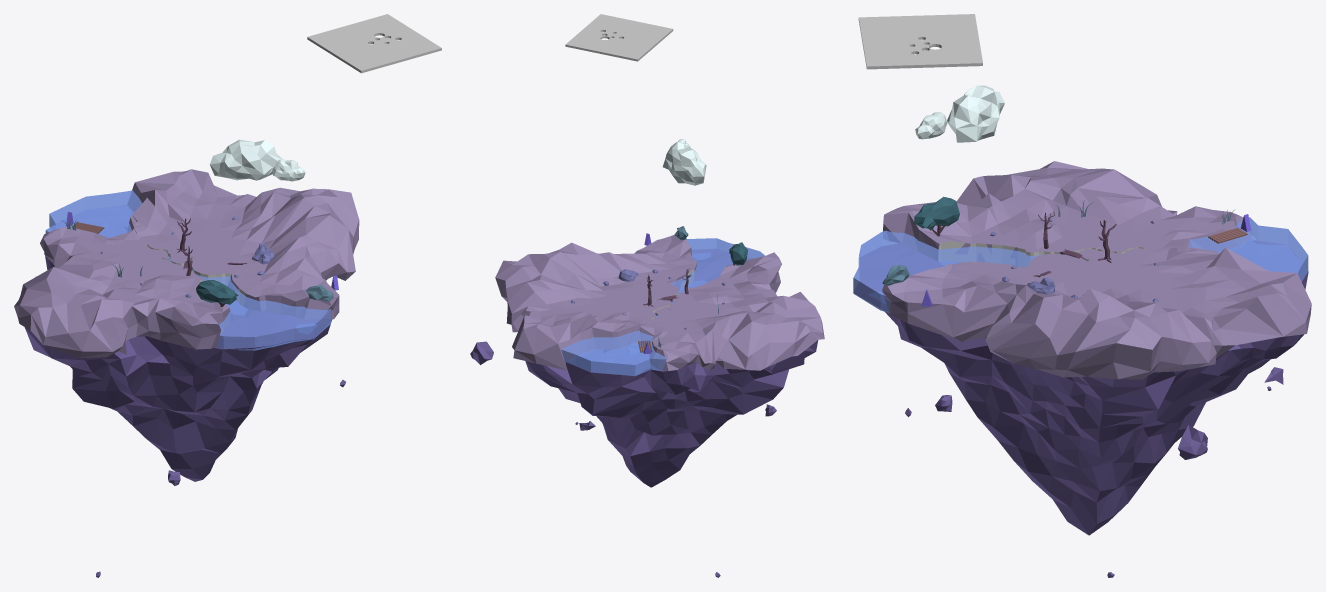
File: level-1-platform-3.dae
3 views of the same model, side by side, from view 1: azimuth 30°, elevation 25°; view 2: azimuth 150°, elevation 25°; view 3: azimuth 270°, elevation 25° (orthographic). The views are drawn at different scales.
Visible parts, largest first — view 1: top_platform, river_path_bool_1, bot_platform, water_1, Cube_3, water_2, Cloud_4, cerisier_1, Cloud_3; view 2: top_platform, bot_platform, river_path_bool_1, water_2, Cube_3, water_1, Cloud_4; view 3: top_platform (×2), bot_platform, river_path_bool_1, Cube_3, water_1, water_2, Cloud_4, cerisier_1, falling_rock5, Cloud_3.
Boxes of the visible parts, <box> form: top_platform: <box>19,169,358,357</box>; river_path_bool_1: <box>14,169,359,357</box>; bot_platform: <box>24,205,332,481</box>; water_1: <box>166,252,331,350</box>; Cube_3: <box>307,14,441,73</box>; water_2: <box>45,190,148,247</box>; Cloud_4: <box>209,139,282,180</box>; cerisier_1: <box>196,280,238,304</box>; Cloud_3: <box>272,159,305,181</box>; top_platform: <box>503,236,823,370</box>; bot_platform: <box>525,249,818,487</box>; river_path_bool_1: <box>495,234,824,370</box>; water_2: <box>561,316,666,376</box>; Cube_3: <box>565,14,673,61</box>; water_1: <box>630,238,764,345</box>; Cloud_4: <box>663,142,706,185</box>; top_platform (×2): <box>883,161,1311,379</box>; bot_platform: <box>854,240,1308,535</box>; river_path_bool_1: <box>882,161,1311,377</box>; Cube_3: <box>858,14,982,69</box>; water_1: <box>853,230,1042,312</box>; water_2: <box>1188,217,1308,281</box>; Cloud_4: <box>947,85,1004,142</box>; cerisier_1: <box>914,196,959,230</box>; falling_rock5: <box>1178,425,1207,459</box>; Cloud_3: <box>915,112,947,139</box>.
Size of the model in its own units: 2643 by 3853 by 2449.
